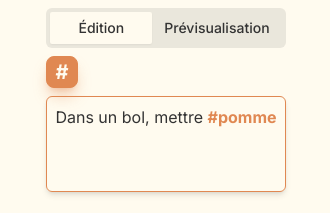
Add a reference › Should complete the reference when a food is clicked and the caret is in the middle of the reference being typed
Click the field at (166, 144), box [46,96,286,192]
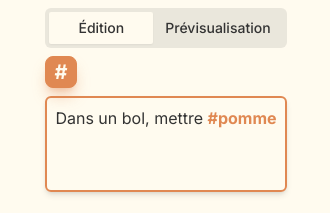
Type keys "a"
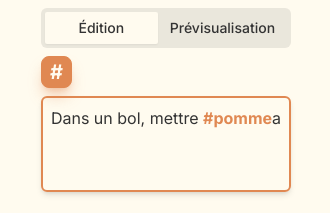
Press Backspace
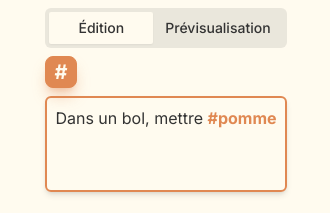
Type keys "[ArrowLeft]"
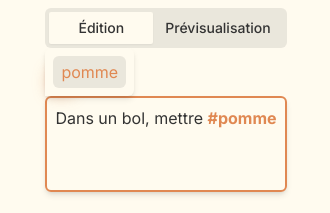
Type keys "[ArrowLeft]"
Type keys "[ArrowLeft]"
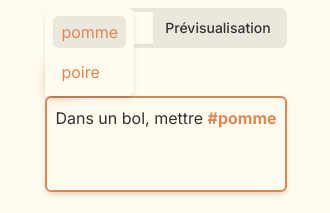
Type keys "[ArrowLeft]"
Click the button "pomme" at (90, 32), box [53,16,126,48]
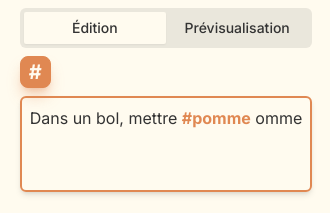
Expected: the field reads "Dans un bol, mettre #pomme omme", [20,96,312,192]
